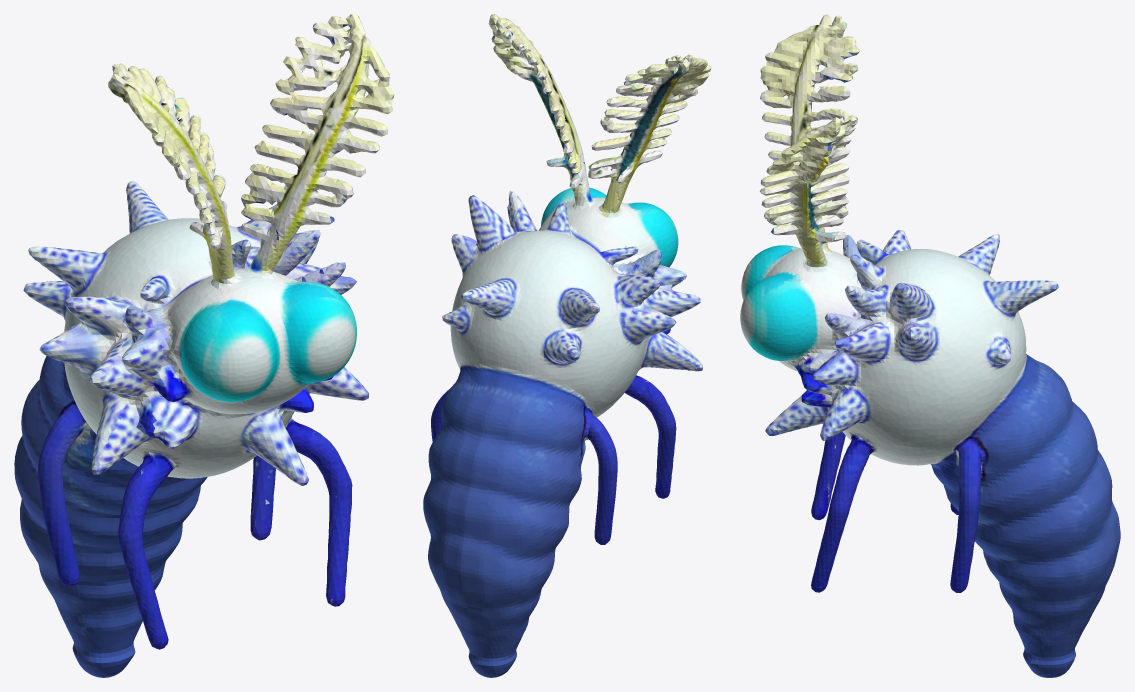
Rendered from creature-017.glb.
3 renders of one model, left to right at view 1: azimuth 30°, elevation 25°; view 2: azimuth 150°, elevation 25°; view 3: azimuth 270°, elevation 25°, orthographic. The views are drawn at different scales.
Visible parts, largest first — view 1: tmpd1s1wlce.ply; view 2: tmpd1s1wlce.ply; view 3: tmpd1s1wlce.ply.
Boxes of the visible parts, x1,y1,x2,y2 form: tmpd1s1wlce.ply: (14,14,394,677); tmpd1s1wlce.ply: (423,14,711,677); tmpd1s1wlce.ply: (740,14,1120,677).
Bounding box in the file's own units: 0.4158 × 1.03 × 0.576.
1 material, 1 textured.
